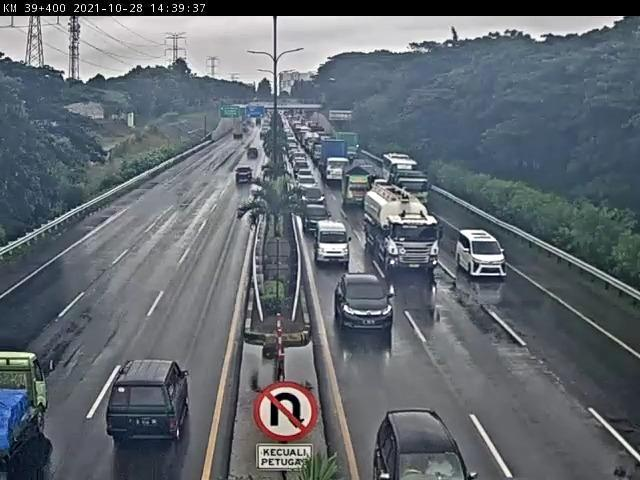car: (373, 409, 481, 480), (104, 365, 190, 450), (335, 271, 397, 343), (463, 225, 515, 281), (319, 224, 353, 266), (305, 206, 331, 233), (302, 186, 326, 204), (236, 165, 255, 187)
truck: (362, 187, 445, 273), (2, 354, 49, 460), (344, 169, 372, 206)
